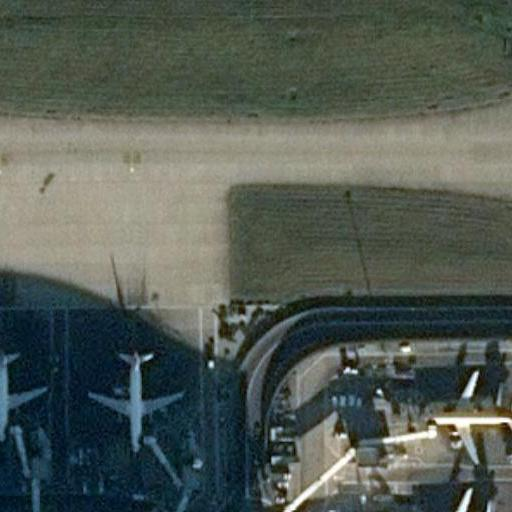Aircraft: (88, 345, 184, 453), (429, 367, 512, 466), (0, 346, 50, 444), (419, 485, 511, 512)
